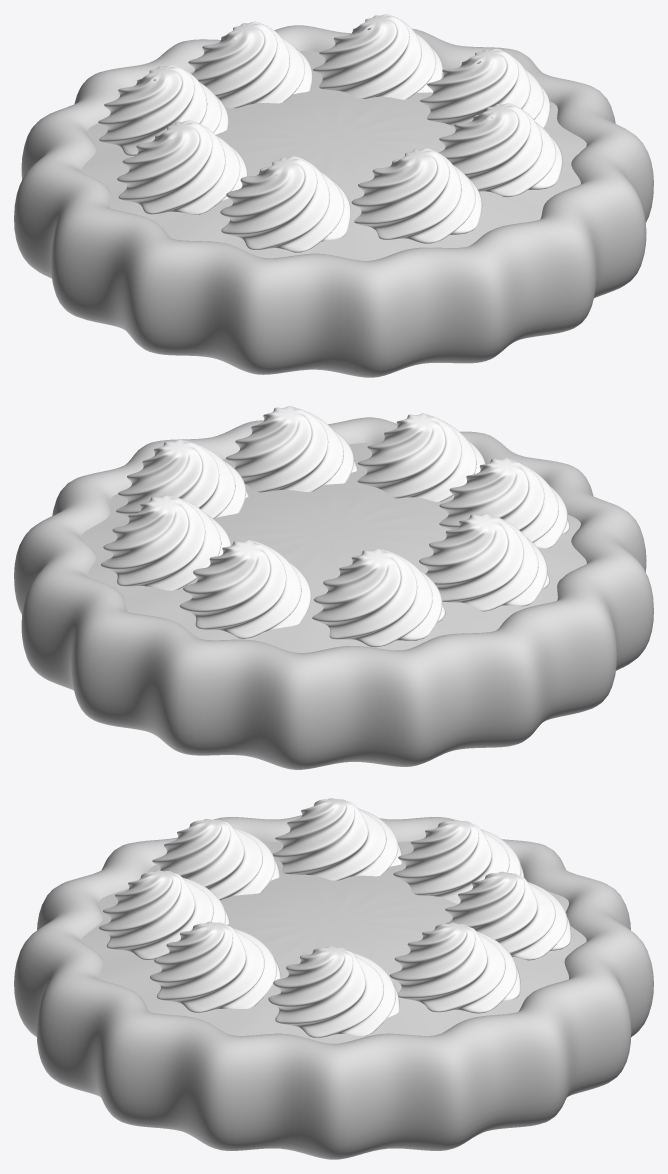
The model's file is pie.fbx.
3 renders of one model, top to bottom at view 1: azimuth 30°, elevation 25°; view 2: azimuth 150°, elevation 25°; view 3: azimuth 270°, elevation 25°, orthographic.
Parts seen in each view (by area): view 1: pie, pie-filling, Whipped_Cream.006, Whipped_Cream.008, Whipped_Cream.001, Whipped_Cream.007, Whipped_Cream.004, Whipped_Cream.003, Whipped_Cream.002, Whipped_Cream.005; view 2: pie, pie-filling, Whipped_Cream.002, Whipped_Cream.003, Whipped_Cream.001, Whipped_Cream.004, Whipped_Cream.007, Whipped_Cream.008, Whipped_Cream.006, Whipped_Cream.005; view 3: pie, pie-filling, Whipped_Cream.005, Whipped_Cream.004, Whipped_Cream.007, Whipped_Cream.001, Whipped_Cream.008, Whipped_Cream.003, Whipped_Cream.006, Whipped_Cream.002.
Boxes of the visible parts, bbox=[...] form: pie: bbox=[14, 25, 653, 377]; pie-filling: bbox=[81, 51, 586, 260]; Whipped_Cream.006: bbox=[220, 156, 350, 252]; Whipped_Cream.008: bbox=[351, 148, 482, 243]; Whipped_Cream.001: bbox=[117, 120, 247, 214]; Whipped_Cream.007: bbox=[439, 103, 562, 197]; Whipped_Cream.004: bbox=[313, 14, 442, 99]; Whipped_Cream.003: bbox=[188, 21, 312, 108]; Whipped_Cream.002: bbox=[98, 64, 228, 155]; Whipped_Cream.005: bbox=[420, 48, 550, 129]; pie: bbox=[14, 417, 653, 769]; pie-filling: bbox=[81, 443, 586, 652]; Whipped_Cream.002: bbox=[312, 548, 445, 647]; Whipped_Cream.003: bbox=[179, 540, 311, 638]; Whipped_Cream.001: bbox=[419, 513, 549, 611]; Whipped_Cream.004: bbox=[101, 495, 231, 590]; Whipped_Cream.007: bbox=[226, 406, 357, 492]; Whipped_Cream.008: bbox=[357, 413, 485, 501]; Whipped_Cream.006: bbox=[439, 458, 569, 548]; Whipped_Cream.005: bbox=[116, 439, 248, 518]; pie: bbox=[14, 815, 653, 1159]; pie-filling: bbox=[81, 841, 586, 1043]; Whipped_Cream.005: bbox=[268, 946, 399, 1037]; Whipped_Cream.004: bbox=[389, 922, 520, 1013]; Whipped_Cream.007: bbox=[150, 921, 280, 1012]; Whipped_Cream.001: bbox=[272, 798, 402, 880]; Whipped_Cream.008: bbox=[99, 870, 229, 959]; Whipped_Cream.003: bbox=[445, 871, 571, 960]; Whipped_Cream.006: bbox=[152, 819, 279, 900]; Whipped_Cream.002: bbox=[393, 819, 524, 903].
Bounding box in the file's own units: 184 × 53.29 × 184.
